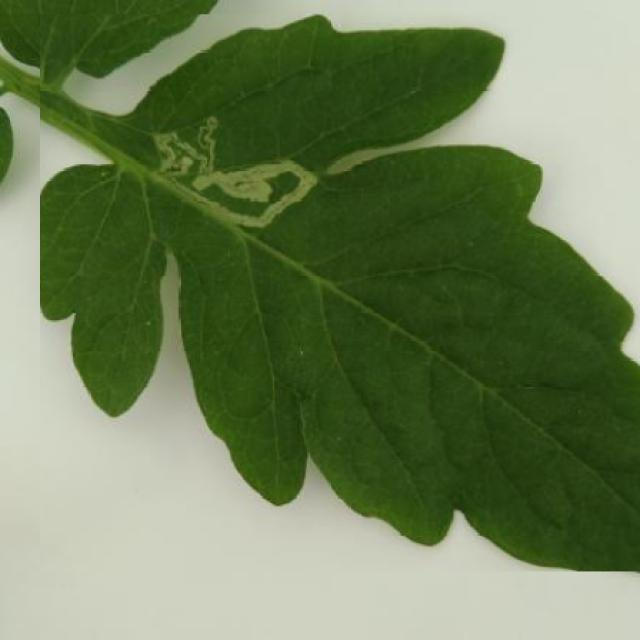Leaf Miner: (40, 14, 640, 572)
